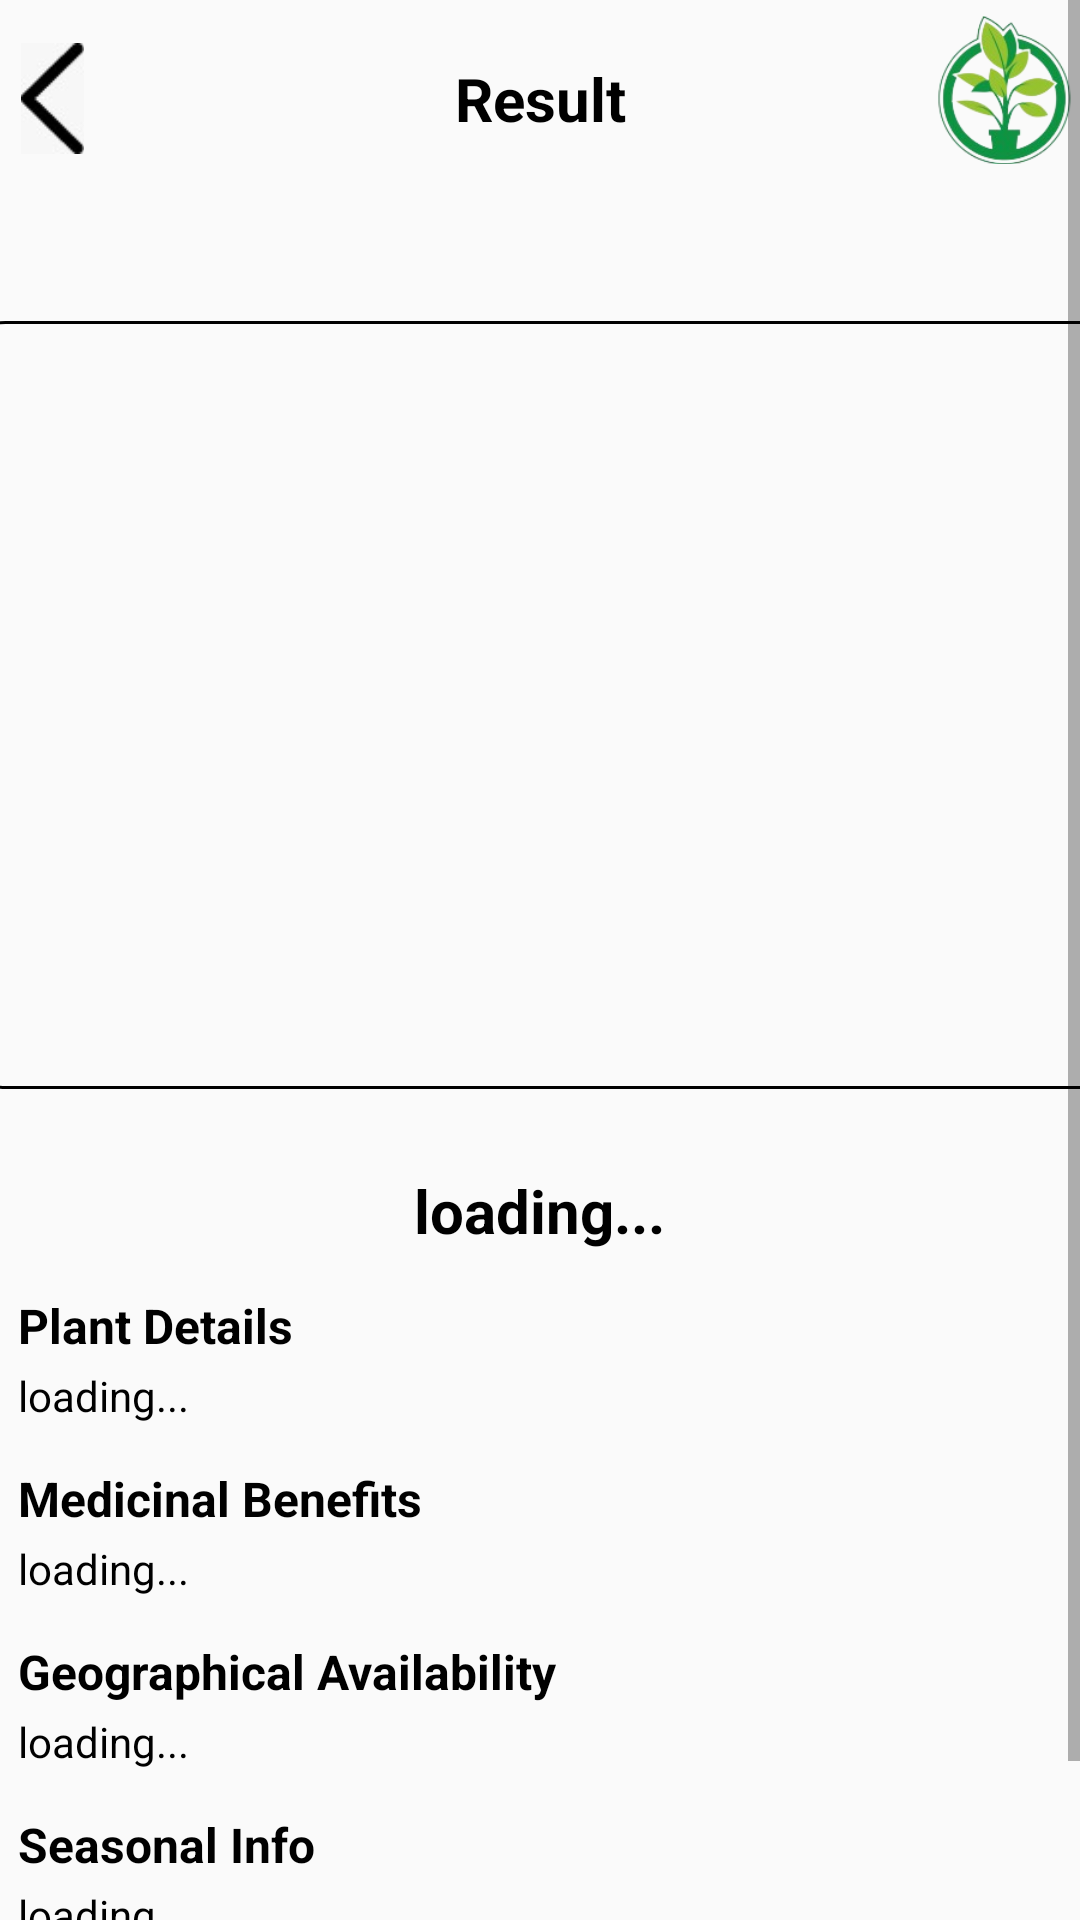

Screen size 1080px x 1920px. Icon name, then its box in pixels as (x1, y1, x2, y2):
back: (21, 43, 84, 154)
